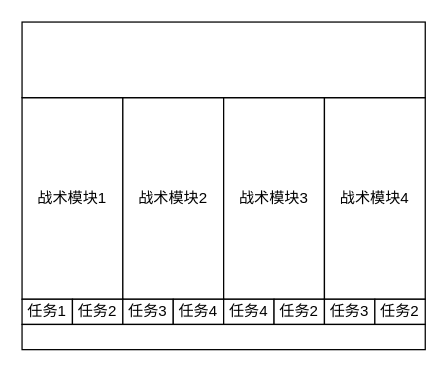
Image size: 447x372. Some labels were removed from this diagram. Here are the shapes that lost their labels. From the top down, the centre of each, then its label:
(x=223, y=59): 主模块
(x=223, y=336): 通用方法
